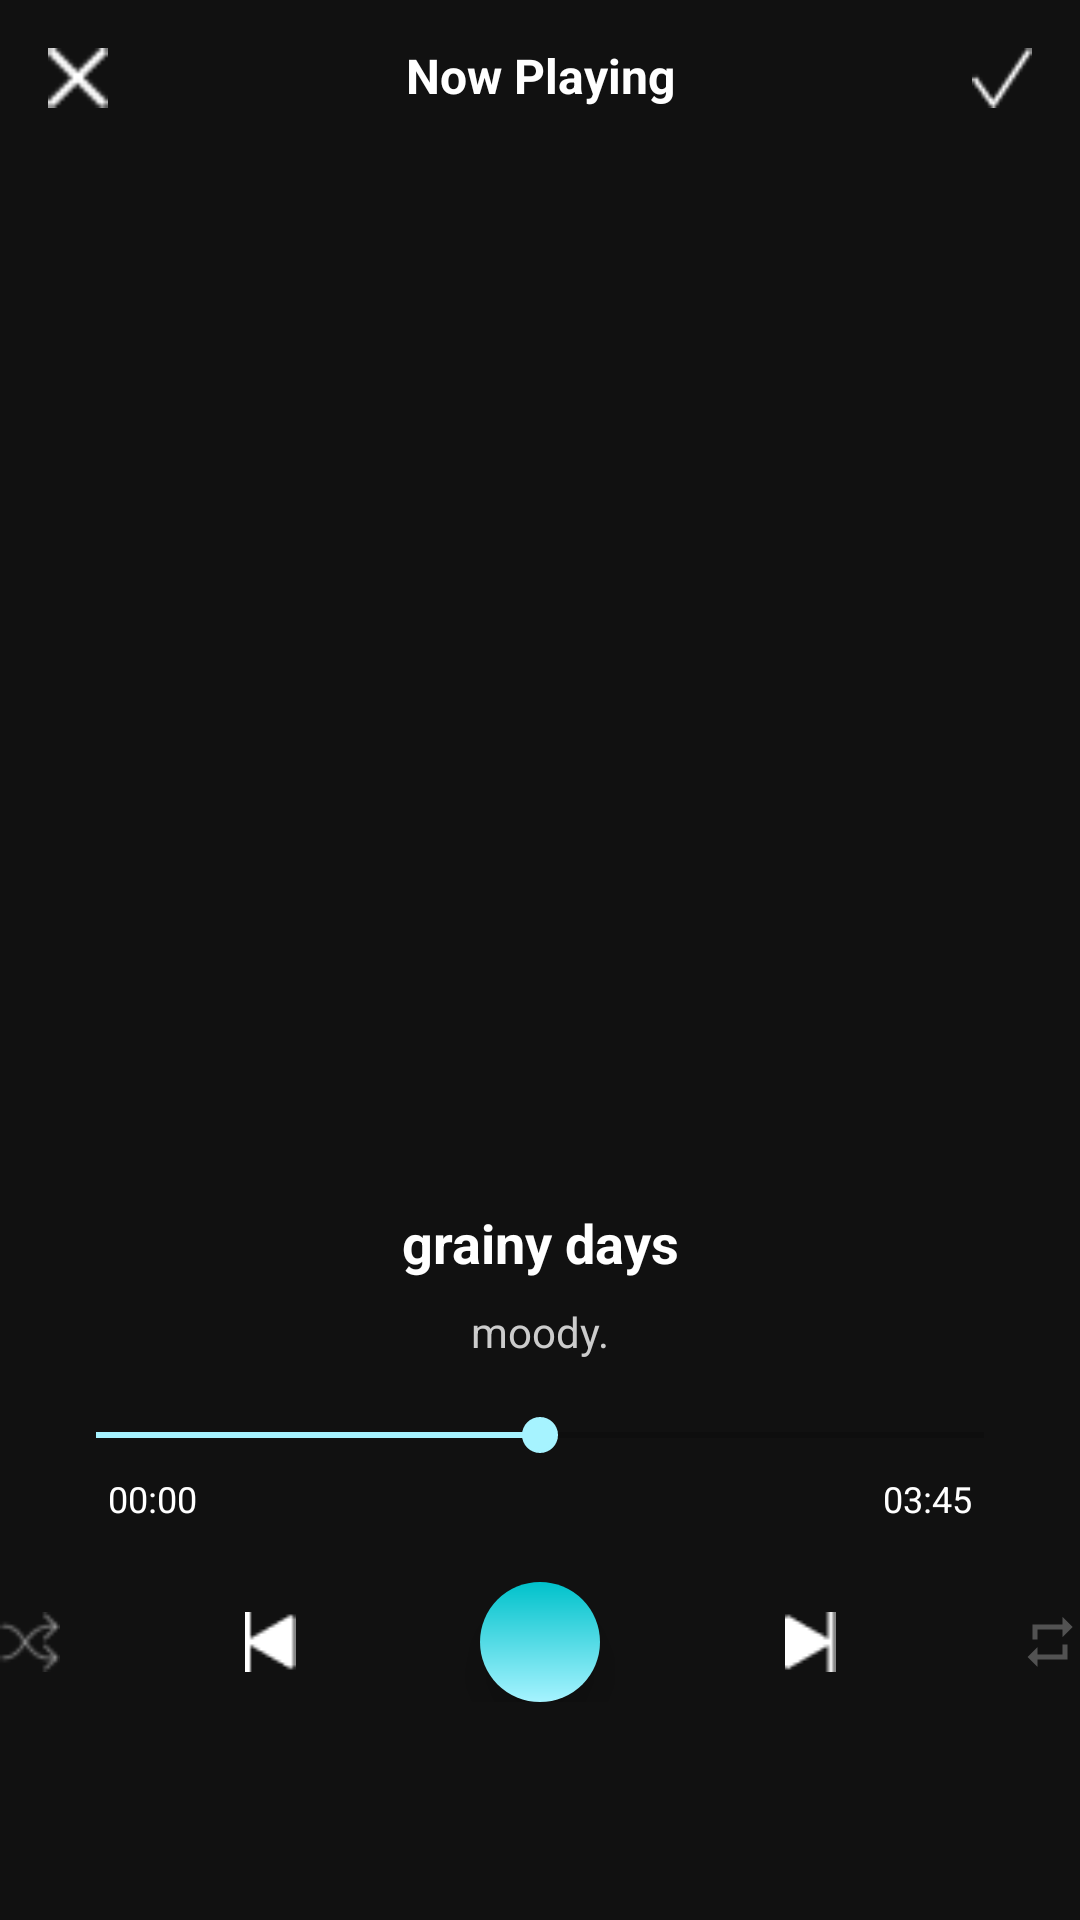

Named icons in this screenshot (1080w x 1920h) and their bounding boxes, [x1=x1, y1=y1, x2=x2, y2=y2]:
check: [x1=972, y1=48, x2=1032, y2=108]
close: [x1=48, y1=48, x2=108, y2=108]
mix player: [x1=0, y1=1612, x2=60, y2=1672]
next song: [x1=785, y1=1612, x2=836, y2=1672]
previous song: [x1=245, y1=1612, x2=296, y2=1672]
repeat: [x1=1028, y1=1617, x2=1072, y2=1666]
